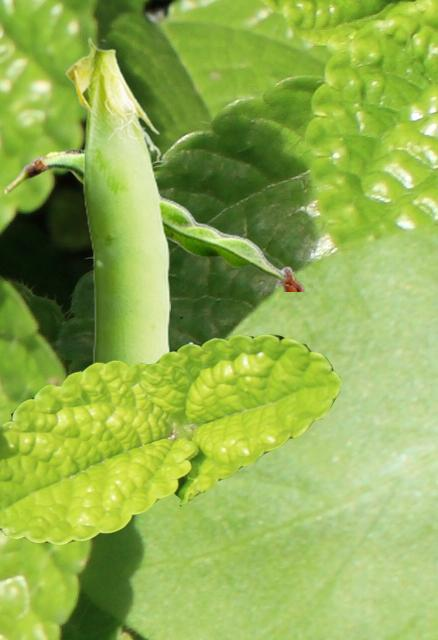pea: (4, 149, 304, 290), (65, 37, 169, 364)
